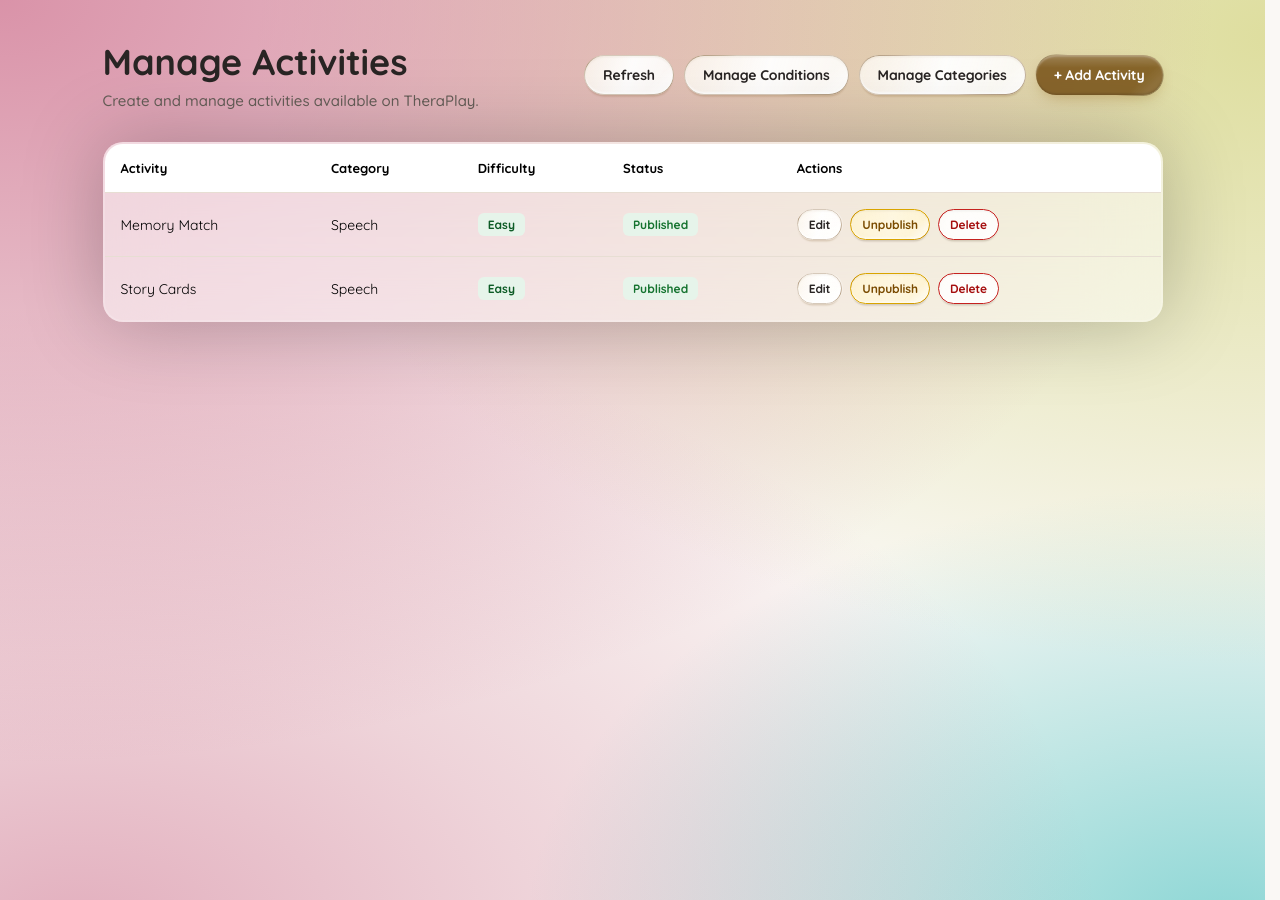
Manage Activities: permanent delete › names the activity and warns that its progress is deleted too
Click the button with aria-label "Delete Memory Match" at (968, 225), box x1=938 y1=209 x2=999 y2=240
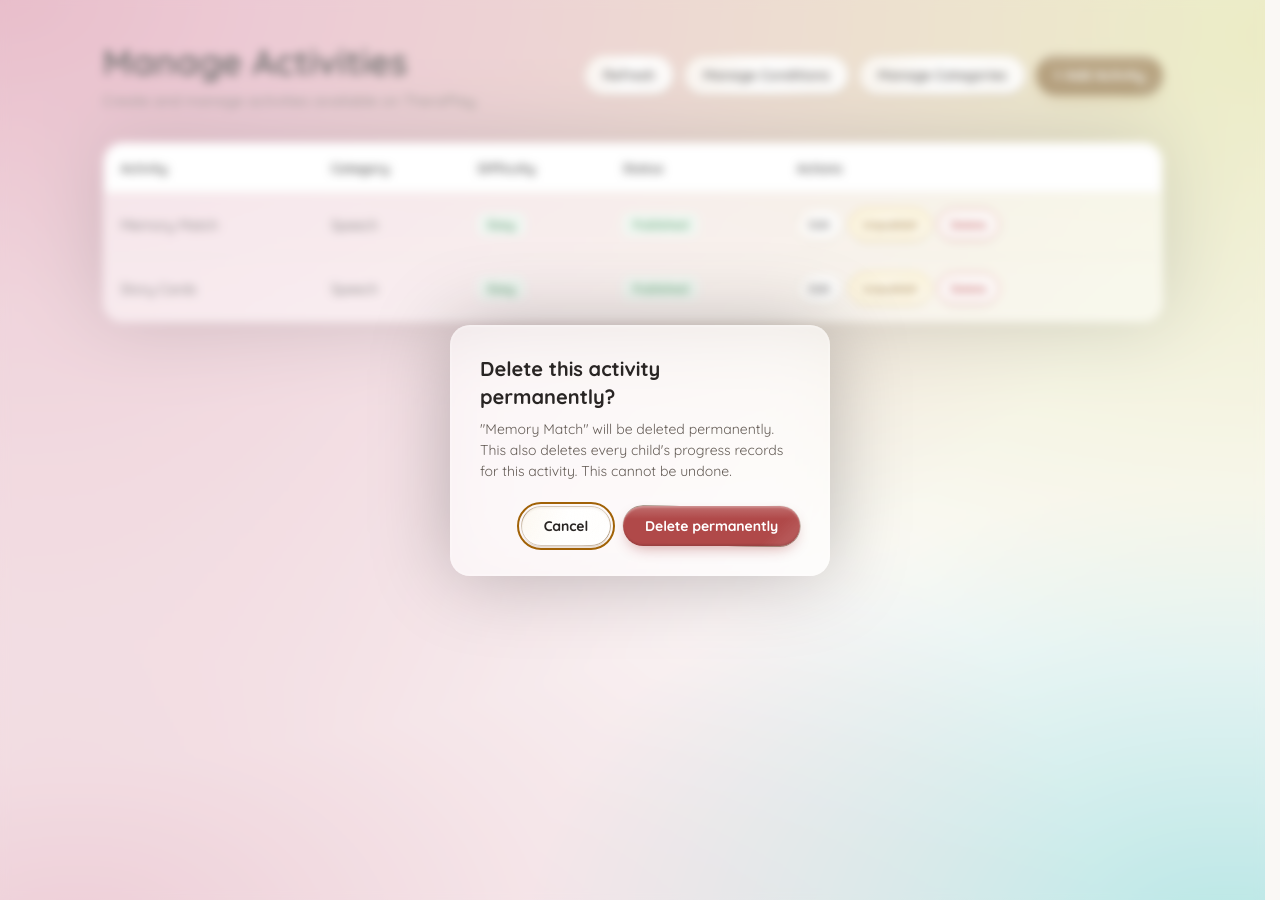
Expected: the dialog shows "\"Memory Match\"", x1=480 y1=420 x2=783 y2=480
Expected: the dialog shows "permanently", x1=480 y1=356 x2=660 y2=408
Expected: the dialog shows "progress records", x1=480 y1=420 x2=783 y2=480
